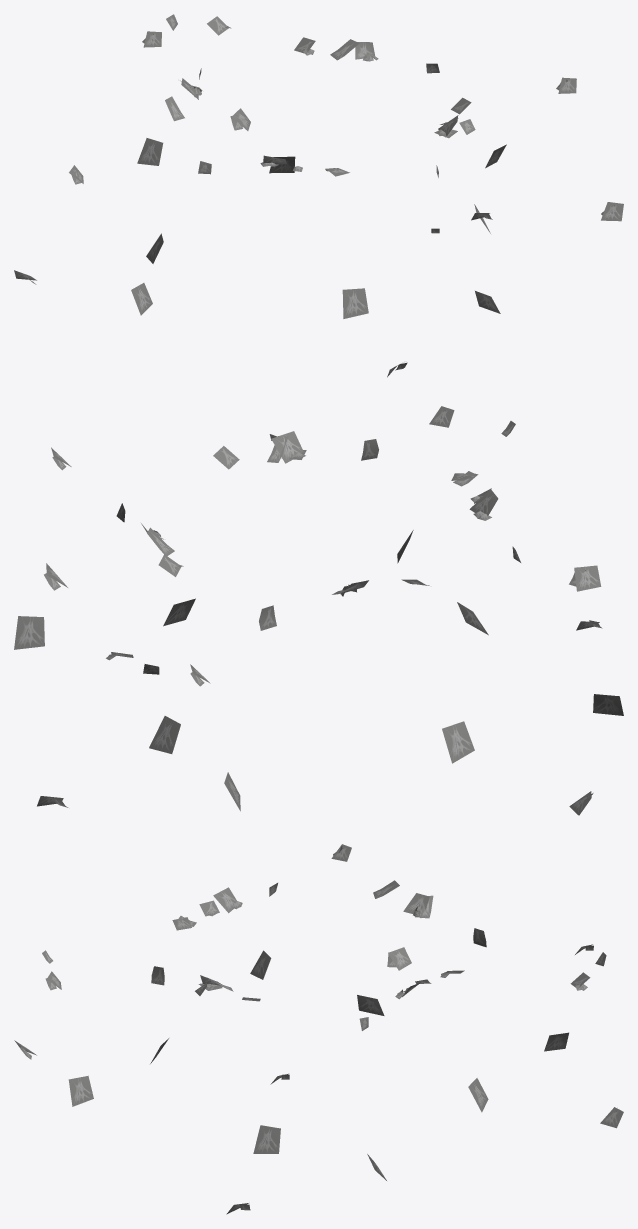
Rendered from scene_feicuizhita_tanei04.FBX.
The picture shows the model from 3 angles, top to bottom: view 1: azimuth 30°, elevation 25°; view 2: azimuth 150°, elevation 25°; view 3: azimuth 270°, elevation 25°; orthographic projection. The views are drawn at different scales.
Visible parts, largest first — view 1: scene_feicuizhita_tanei04; view 2: scene_feicuizhita_tanei04; view 3: scene_feicuizhita_tanei04.
Part boxes in pixels (left/top/right/bottom): scene_feicuizhita_tanei04: left=14, top=14, right=623, bottom=377; scene_feicuizhita_tanei04: left=14, top=406, right=623, bottom=815; scene_feicuizhita_tanei04: left=14, top=844, right=623, bottom=1214.
Size of the model in its own units: 3717 by 1033 by 3717.
